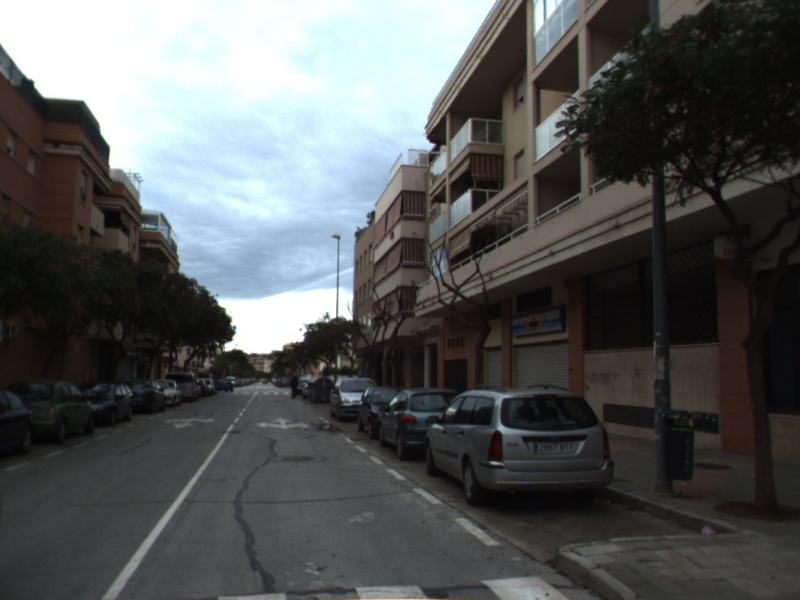STRAIGHT_LEFT_RIGHT: (254, 416, 312, 431)
